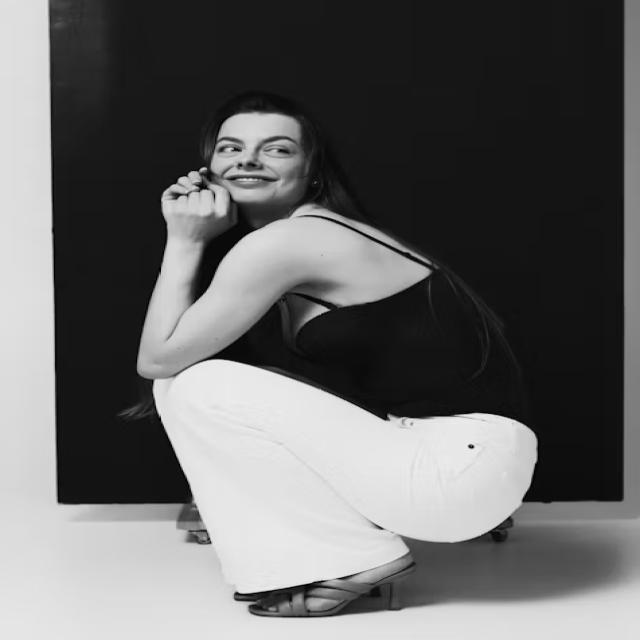Edited images: (108, 81, 546, 640)
